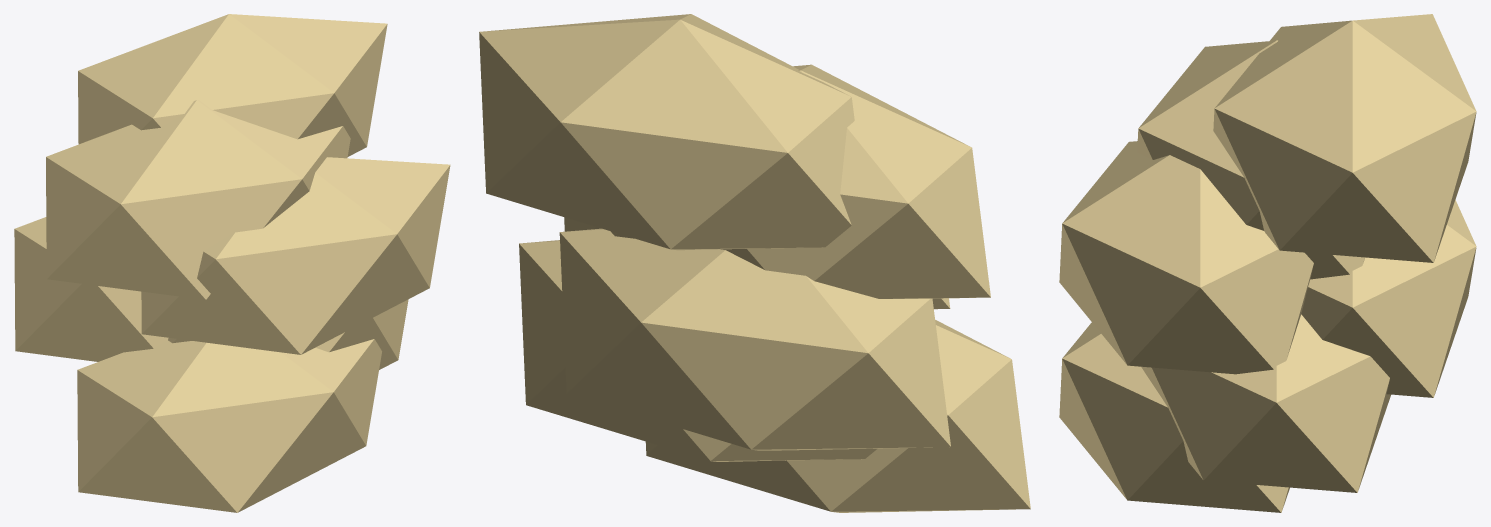
File: item_062_rye_seed_l.glb
3 renders of one model, left to right at view 1: azimuth 30°, elevation 25°; view 2: azimuth 150°, elevation 25°; view 3: azimuth 270°, elevation 25°, orthographic. The views are drawn at different scales.
Parts seen in each view (by area): view 1: item_062_rye_seed_l; view 2: item_062_rye_seed_l; view 3: item_062_rye_seed_l.
Boxes of the visible parts, x1,y1,x2,y2 form: item_062_rye_seed_l: (14,14,450,512); item_062_rye_seed_l: (479,14,1030,512); item_062_rye_seed_l: (1059,14,1476,512).
Size of the model in its own units: 0.4102 by 0.4419 by 0.3288.
